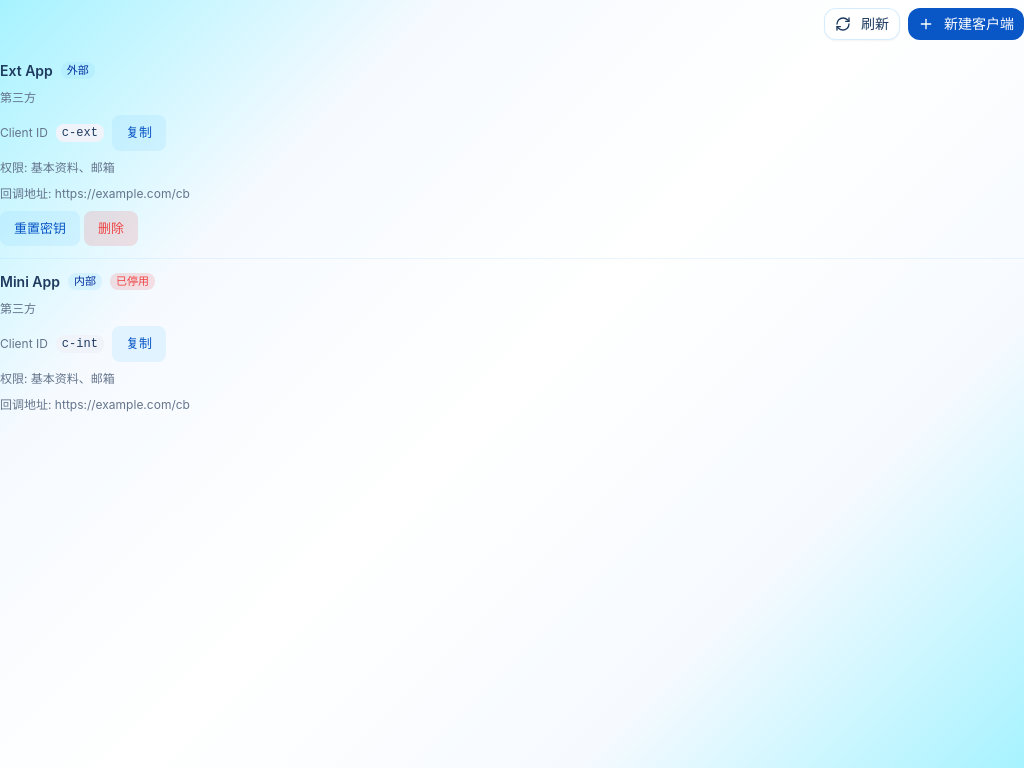
Test: OAuthClientsPanel › 重置密钥两步确认 → SecretDisplay 显示新密钥；遮罩/Esc 不关，只有「我已保存」关
Expected: the text "Ext App" is shown, [0, 60, 53, 81]
Click the button "重置密钥" at (40,228), box [0, 210, 80, 246]
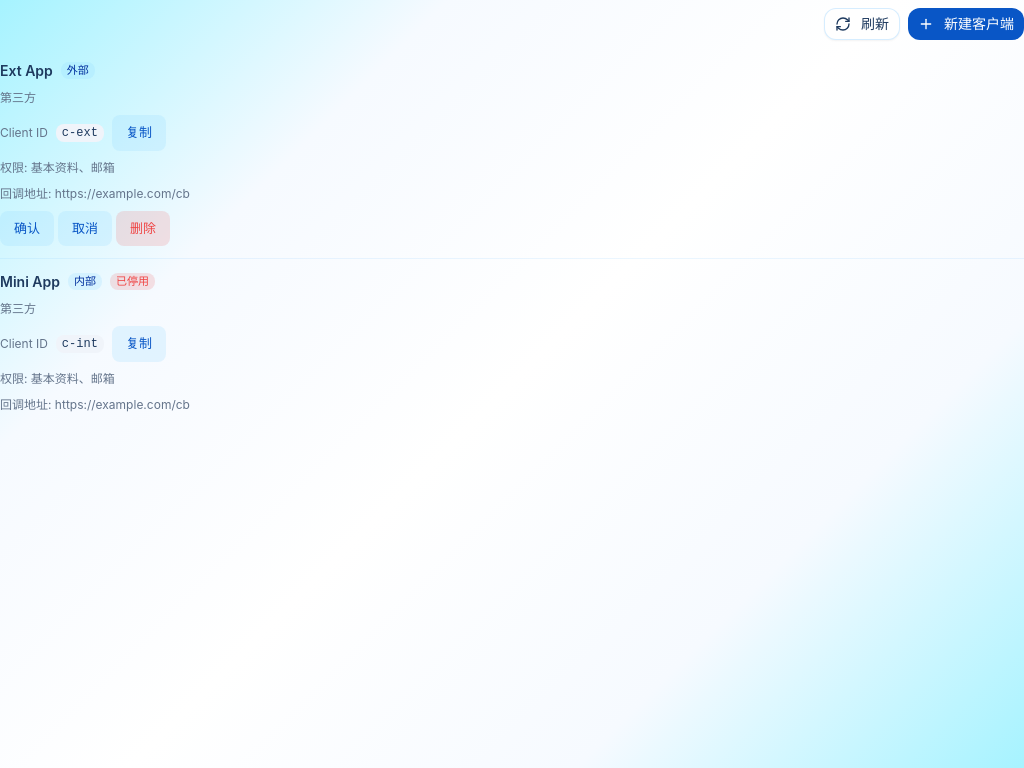
Click the button "确认" at (27,228), box [0, 210, 54, 246]
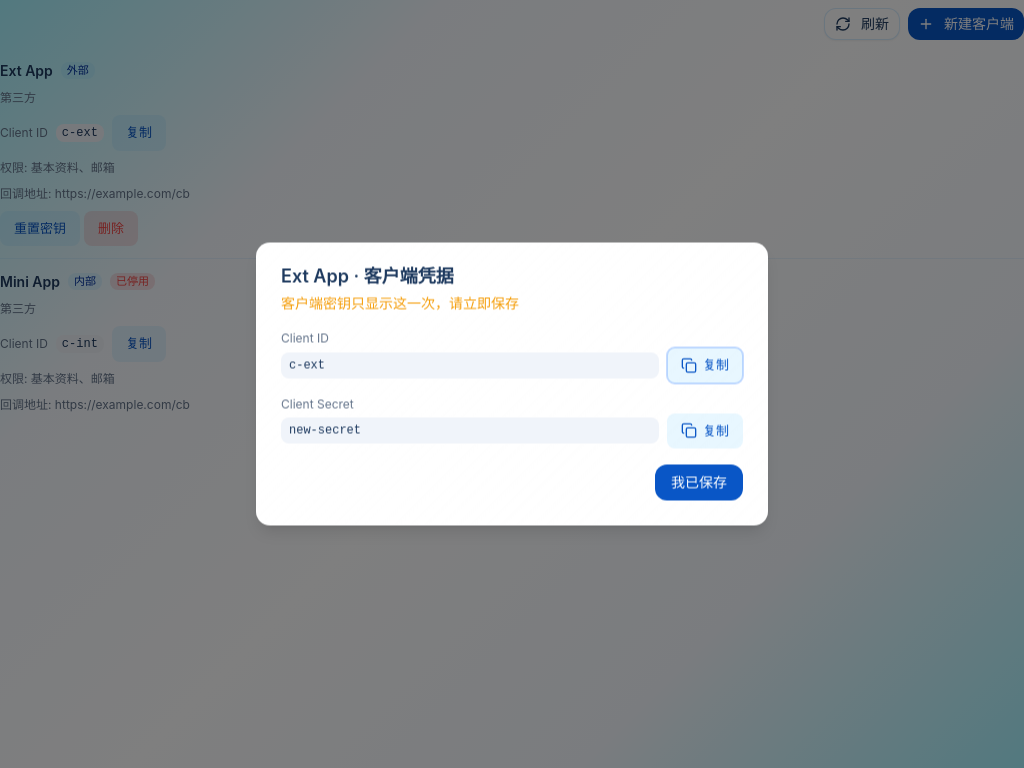
Now the dialog "客户端凭据" shows "new-secret", box [289, 424, 361, 438]
Now the dialog "客户端凭据" shows "只显示这一次", box [281, 294, 519, 312]
Press Escape in the dialog "客户端凭据", box [256, 242, 768, 526]
Now the dialog "客户端凭据" is shown, box [256, 242, 768, 526]
Click the button "我已保存" at (699,482), box [655, 464, 743, 500]
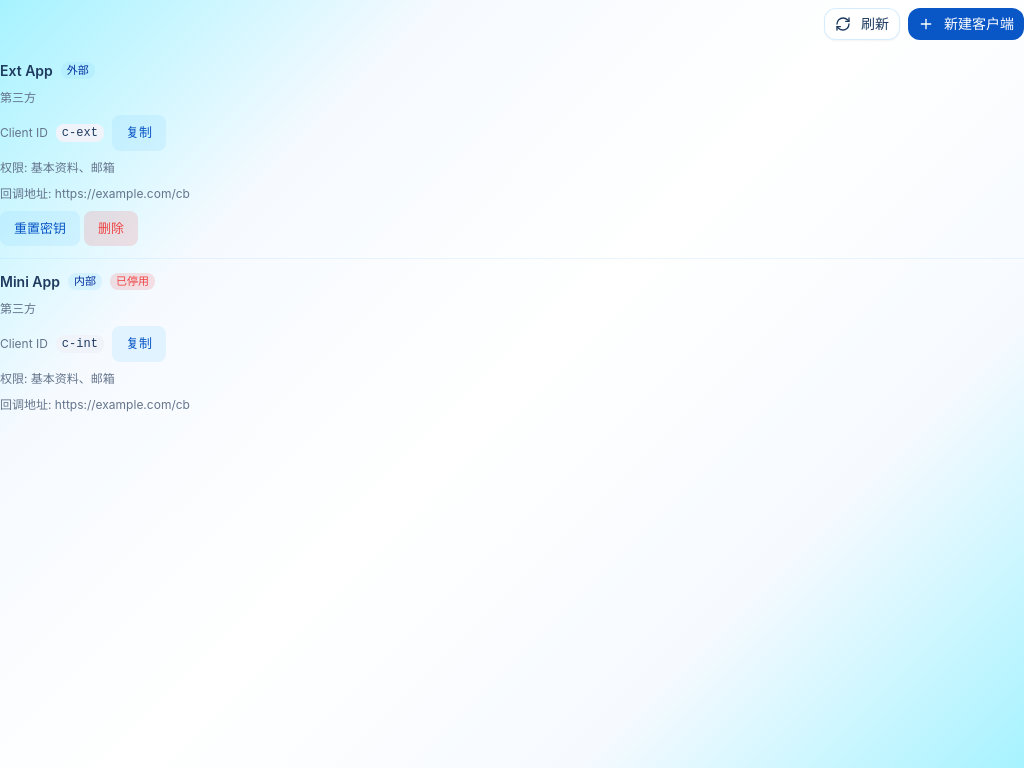
Now the heading "客户端凭据" is gone
